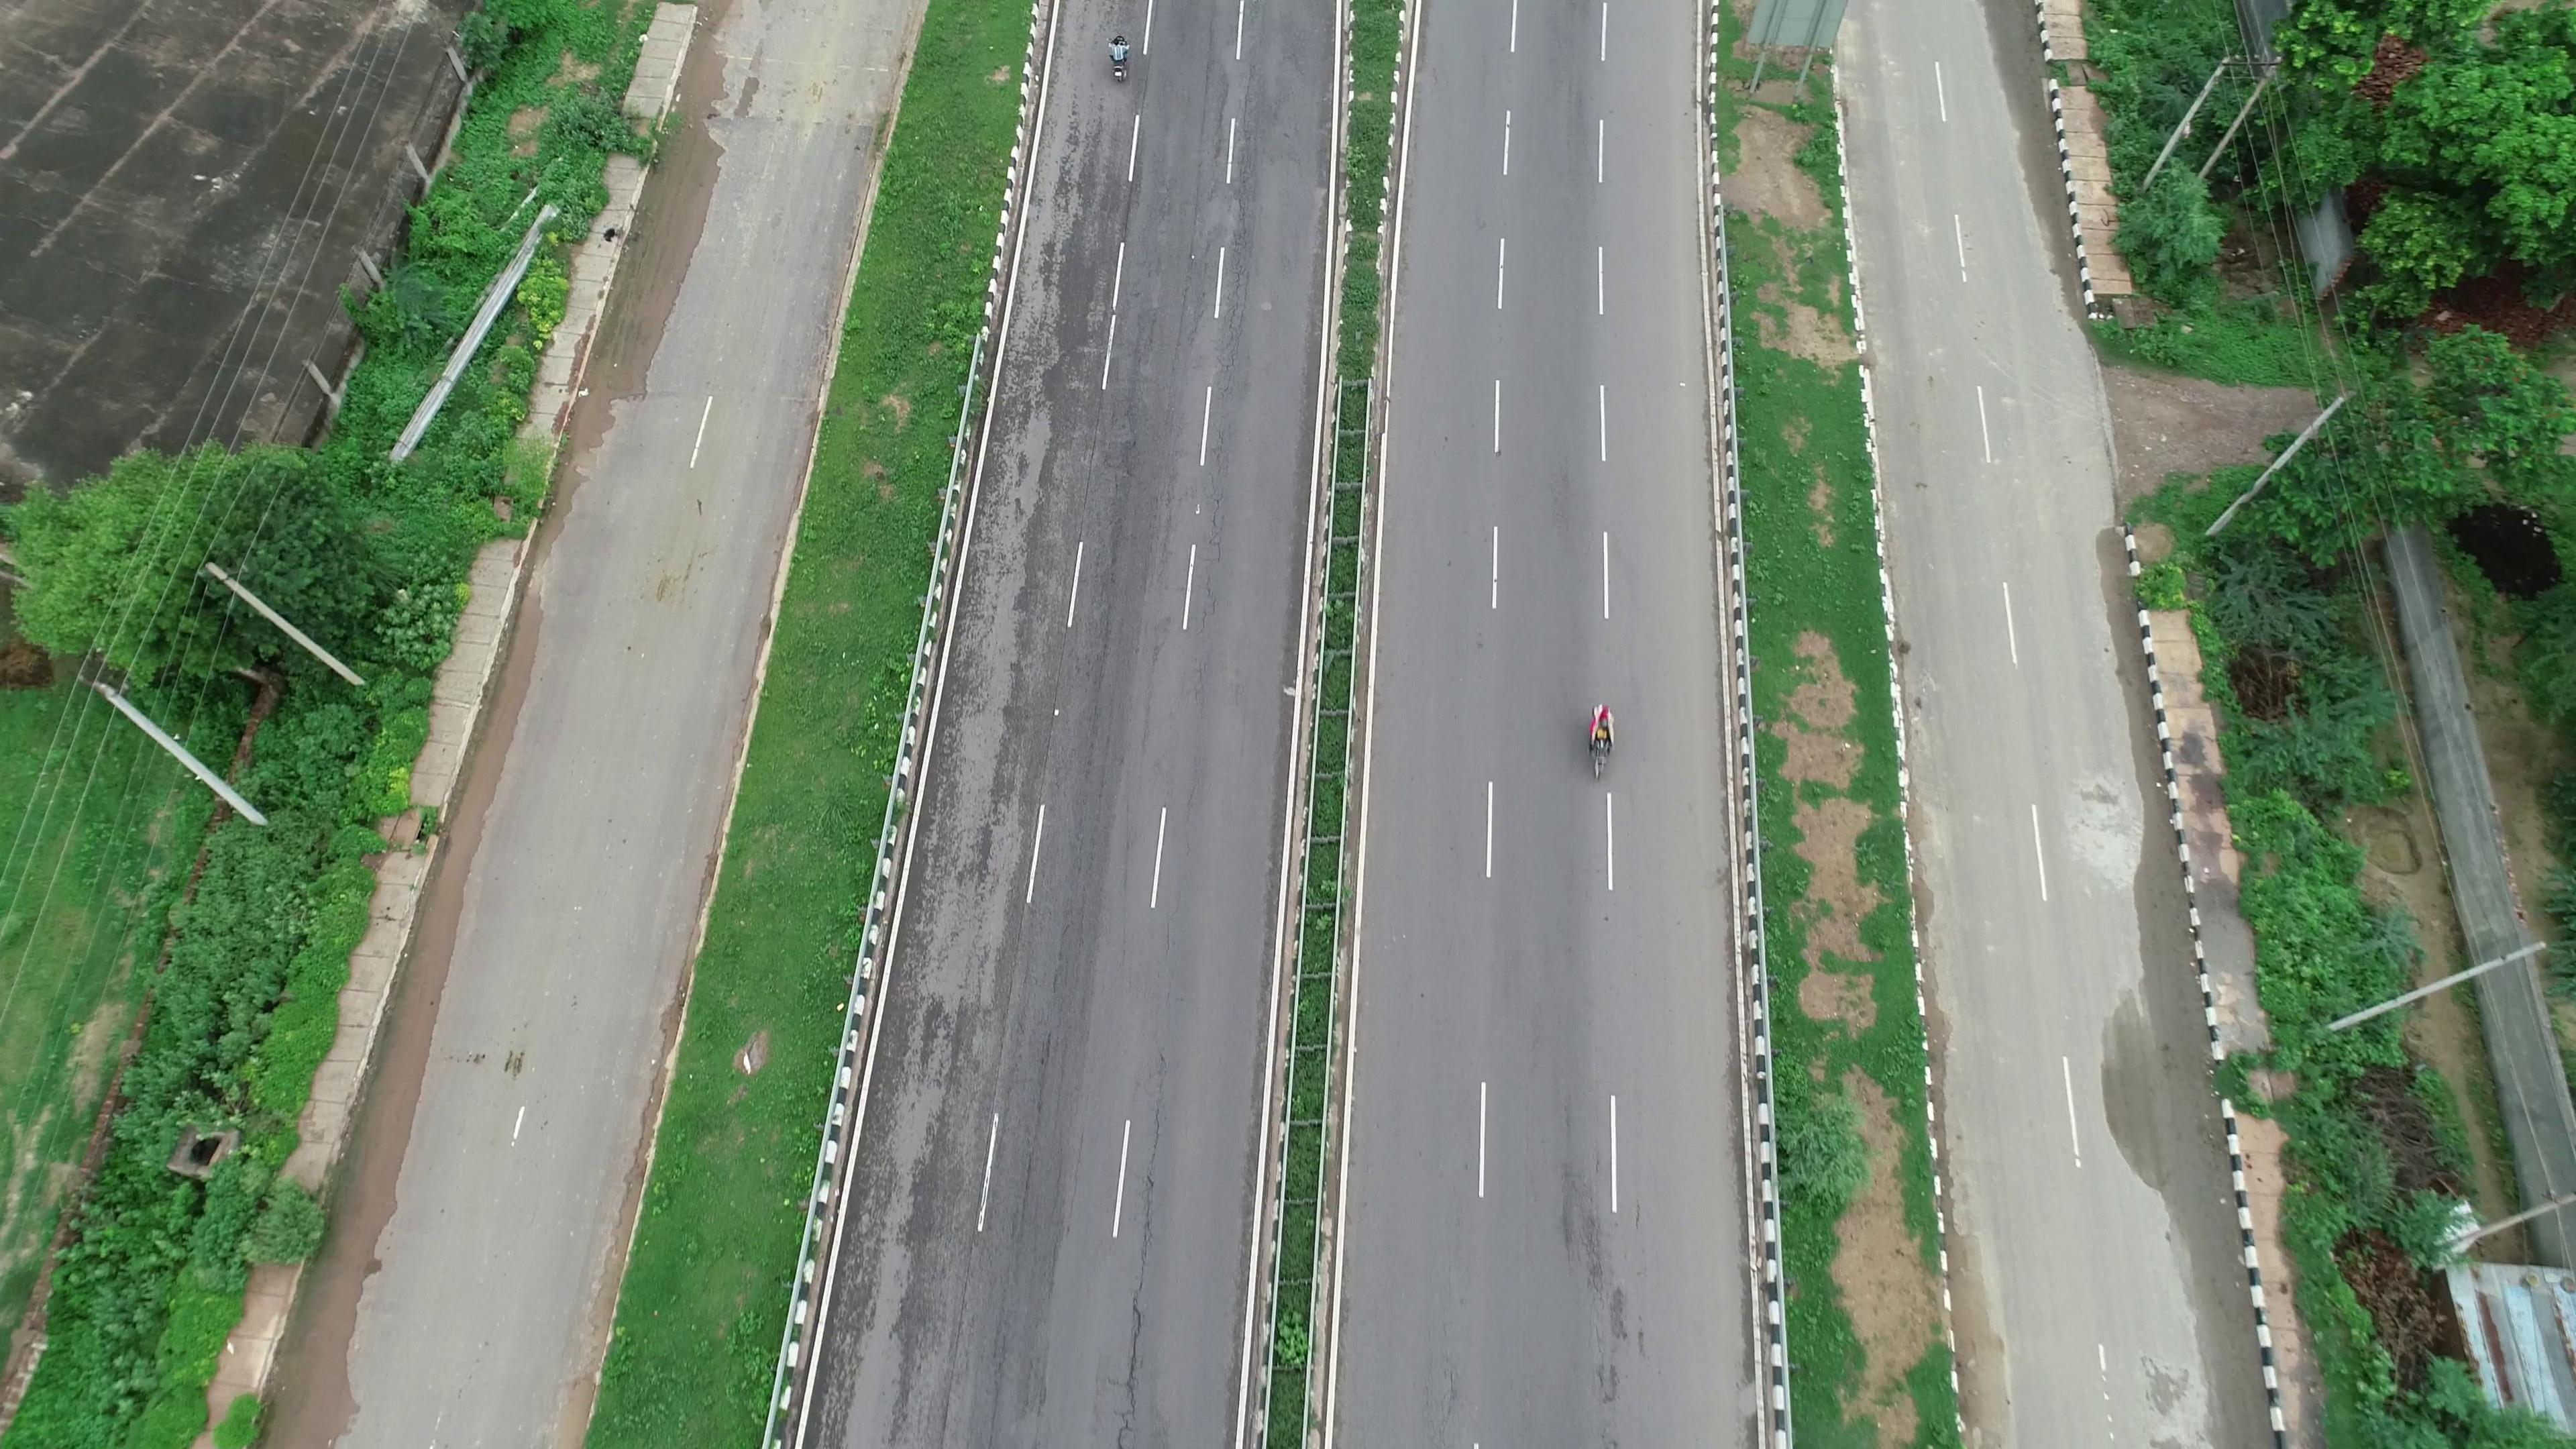Alligator_cracks: (1203, 182, 1272, 387)
Longitudinal_cracks: (1093, 1058, 1175, 1442)
Ravelling: (860, 1040, 994, 1345), (938, 584, 1037, 971), (991, 202, 1081, 527)
